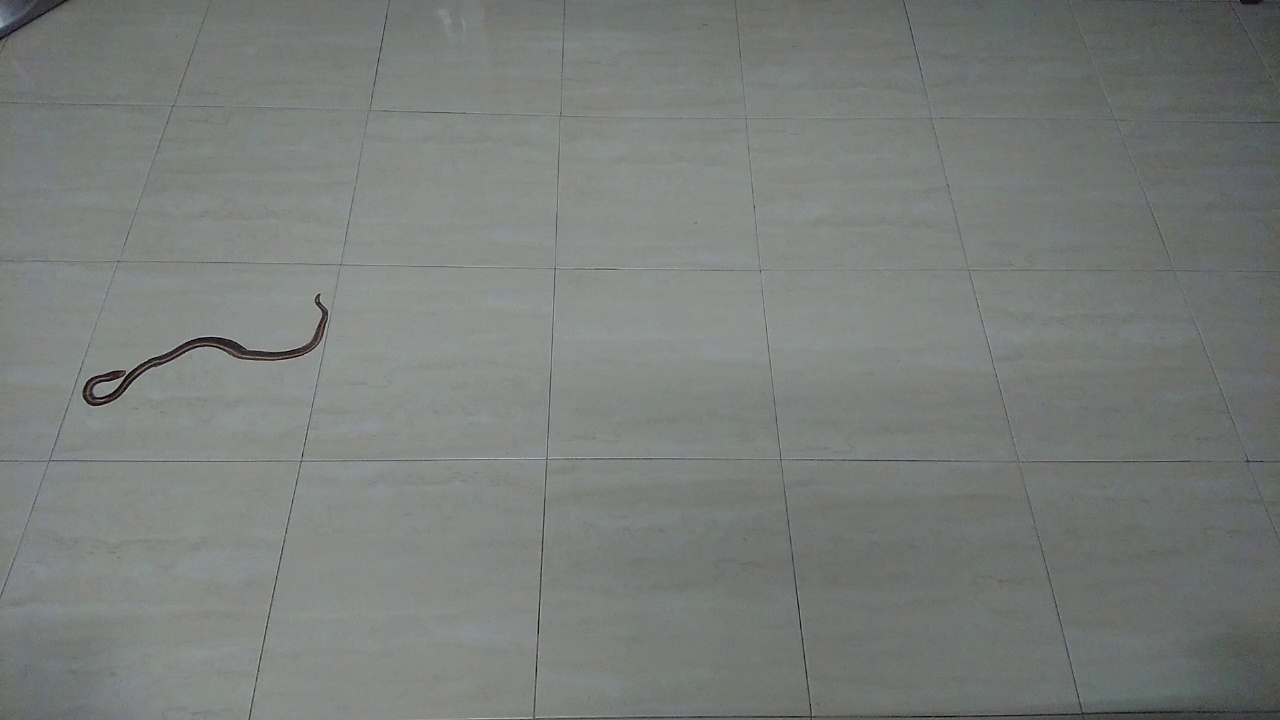snake: (73, 281, 340, 418)
